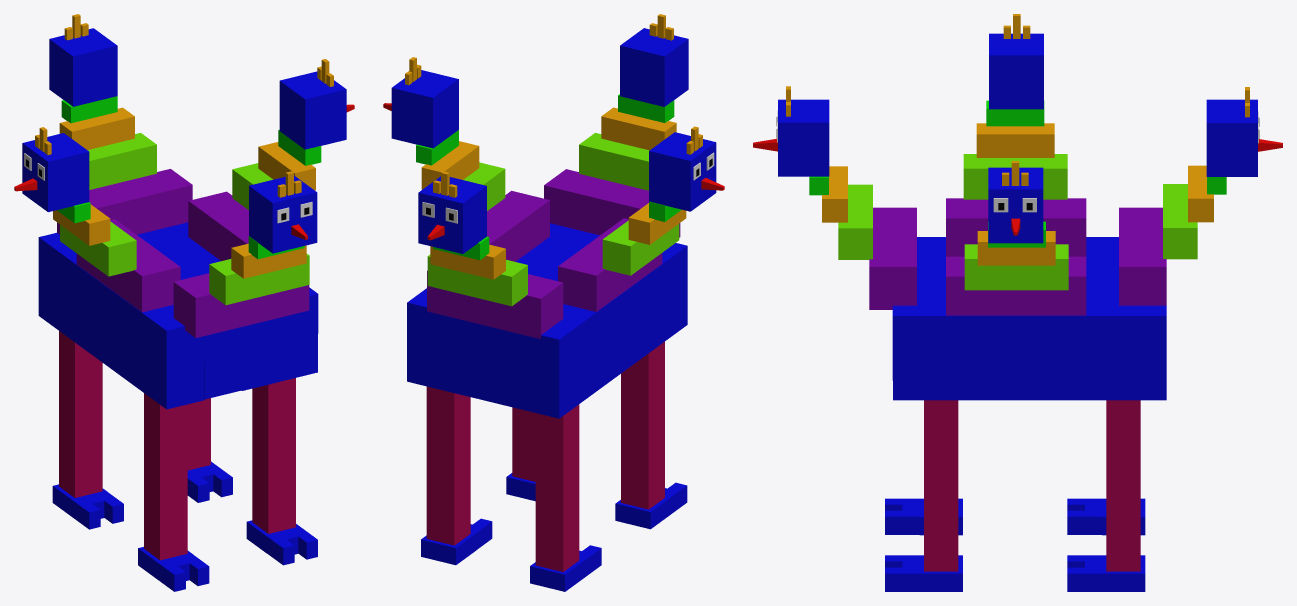
3 renders of one model, left to right at view 1: azimuth 30°, elevation 25°; view 2: azimuth 150°, elevation 25°; view 3: azimuth 270°, elevation 25°, orthographic. The views are drawn at different scales.
Visible parts, largest first — view 1: pCube2628, pCube2650, pCube2672, pCube639, pCube623, pCube2661, pCube704, pCube617, pCube618, pCube603, pCube692, pCube619 (+58 smaller); view 2: pCube639, pCube2650, pCube2672, pCube2628, pCube2660, pCube736, pCube2617, pCube620, pCube603, pCube724, pCube617, pCube593 (+54 smaller); view 3: pCube2672, pCube639, pCube2628, pCube2650, pCube624, pCube707, pCube2616, pCube735, pCube739, pCube711, pCube618, pCube620 (+41 smaller).
Part boxes in pixels (x1,y1,x2,y2): pCube2628: (49,28,117,106); pCube2650: (279,71,346,149); pCube2672: (22,133,89,212); pCube639: (249,175,317,253); pCube623: (173,273,233,337); pCube2661: (120,251,180,312); pCube704: (144,308,204,370); pCube617: (144,439,187,506); pCube618: (252,414,295,480); pCube603: (59,431,102,497); pCube692: (144,354,204,409); pCube619: (59,378,102,443); pCube639: (620,28,688,106); pCube2650: (391,70,458,148); pCube2672: (649,132,716,211); pCube2628: (418,176,486,253); pCube2660: (558,250,618,311); pCube736: (521,319,581,378); pCube2617: (502,274,563,338); pCube620: (426,424,470,492); pCube603: (535,505,579,571); pCube724: (521,363,581,418); pCube617: (621,388,664,455); pCube593: (621,442,664,509); pCube2672: (989,33,1043,109); pCube639: (778,99,829,176); pCube2628: (1206,99,1257,176); pCube2650: (988,167,1043,243); pCube624: (869,247,916,309); pCube707: (892,296,939,358); pCube2616: (1119,247,1166,305); pCube735: (1072,296,1119,358); pCube739: (1119,305,1166,358); pCube711: (938,296,985,358); pCube618: (924,454,958,514); pCube620: (1106,454,1140,514).
Size of the model in its own units: 17.75 by 21.78 by 22.47.
